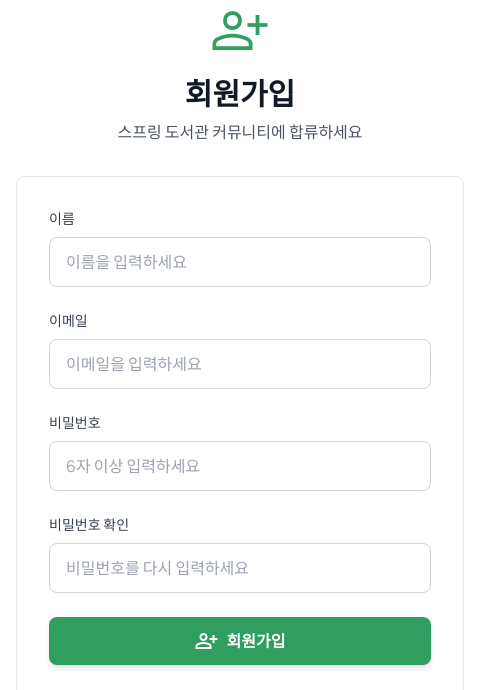
it: Register › RG-03: 비밀번호 6자 미만 › "비밀번호는 6자 이상이어야 합니다" 에러가 노출된다
In the field labelled "이름": (240, 262) [49,237,431,287], type "테스트 회원"
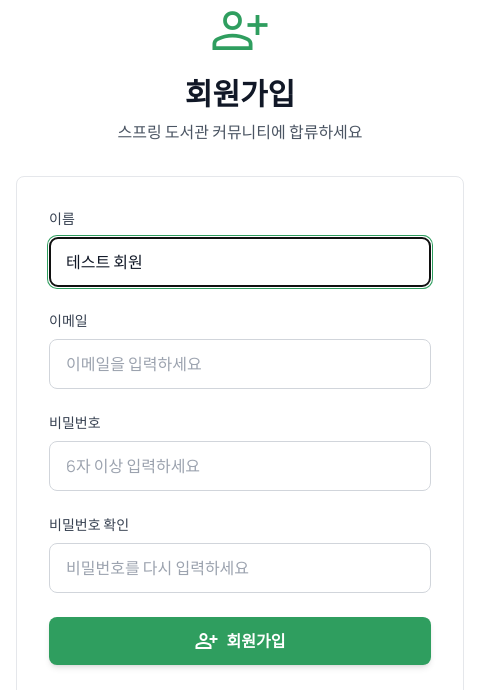
In the field labelled "이메일": (240, 364) [49,339,431,389], type "test@example.com"
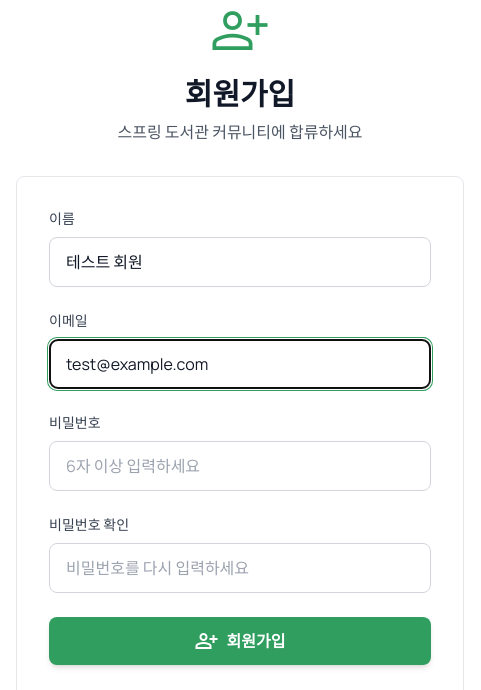
In the password field labelled "비밀번호": (240, 466) [49,441,431,491], type "12345"
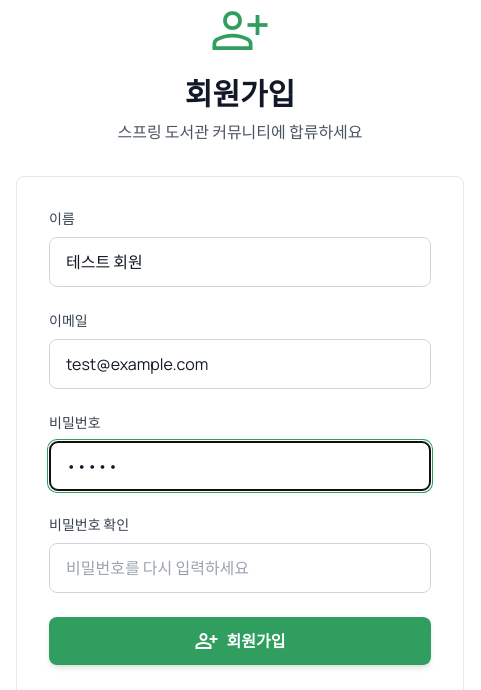
Submit the form, box [49,209,431,665]
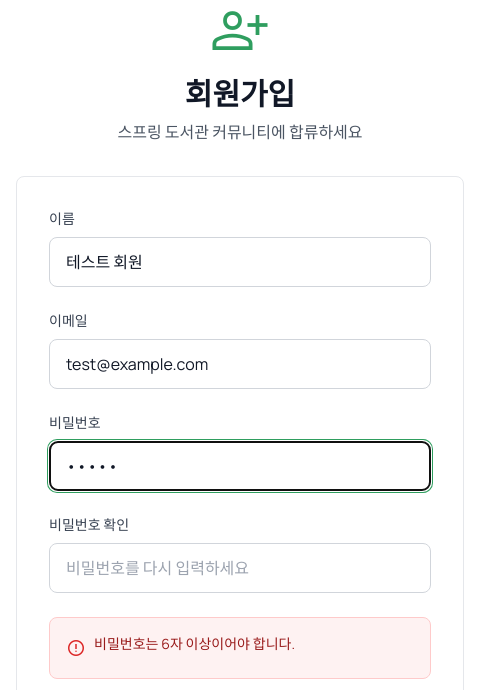
Now the text "비밀번호는 6자 이상이어야 합니다." is shown, box [94,634,295,654]
